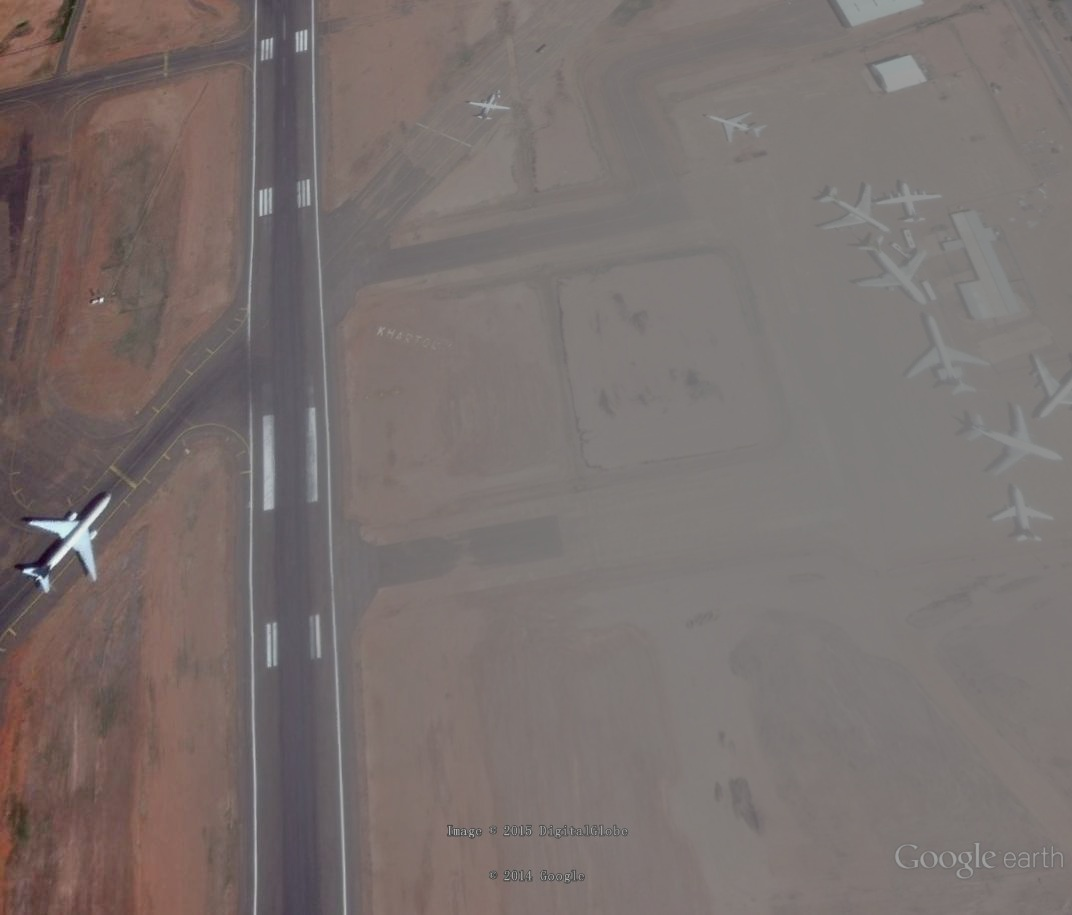aircraft: (16, 490, 115, 600), (958, 402, 1071, 477), (900, 312, 995, 397), (847, 231, 936, 307), (987, 481, 1059, 547), (816, 181, 895, 237), (867, 177, 948, 228), (702, 105, 772, 150), (460, 90, 516, 124)
